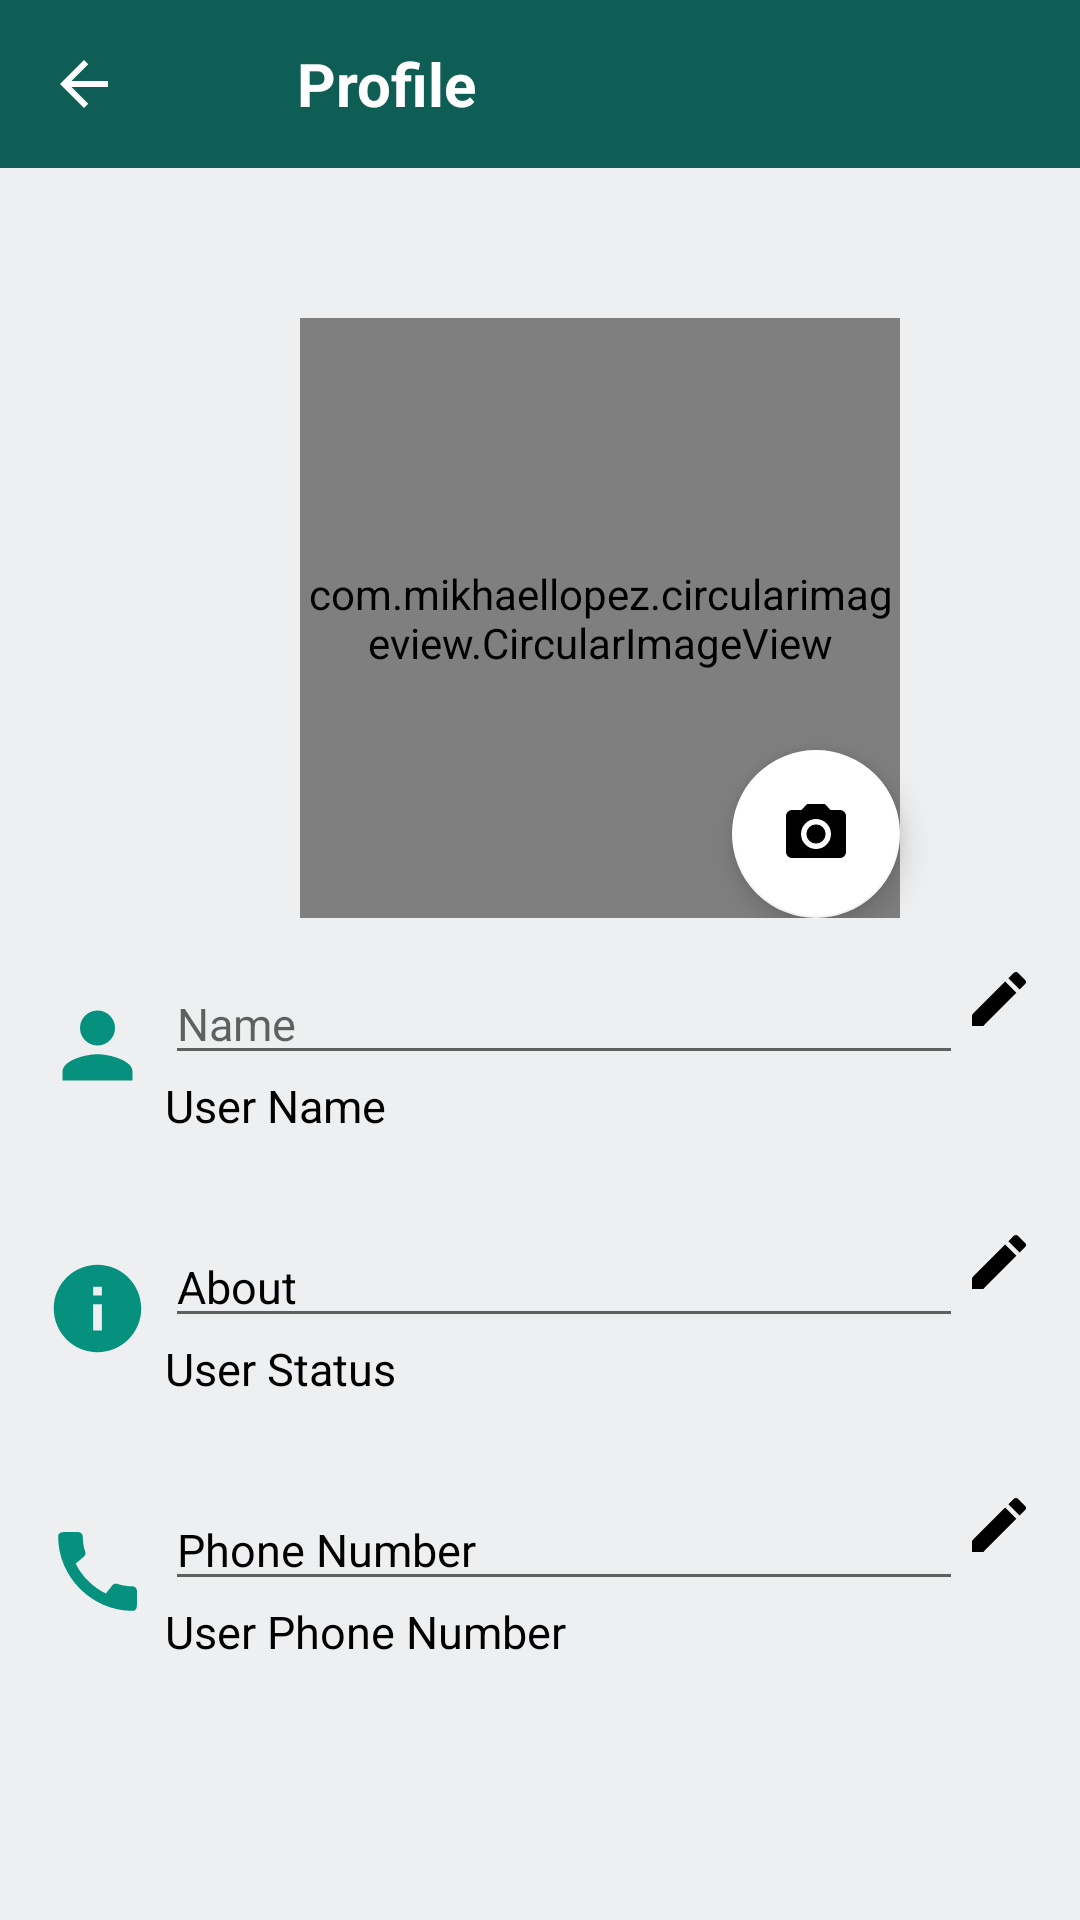

Screen size 1080px×1920px. Icon name, then its center in pixels as (x,y):
backarrow: (84,84)
call: (97,1571)
info: (97,1308)
person profile: (97,1045)
photocamera: (816,834)
